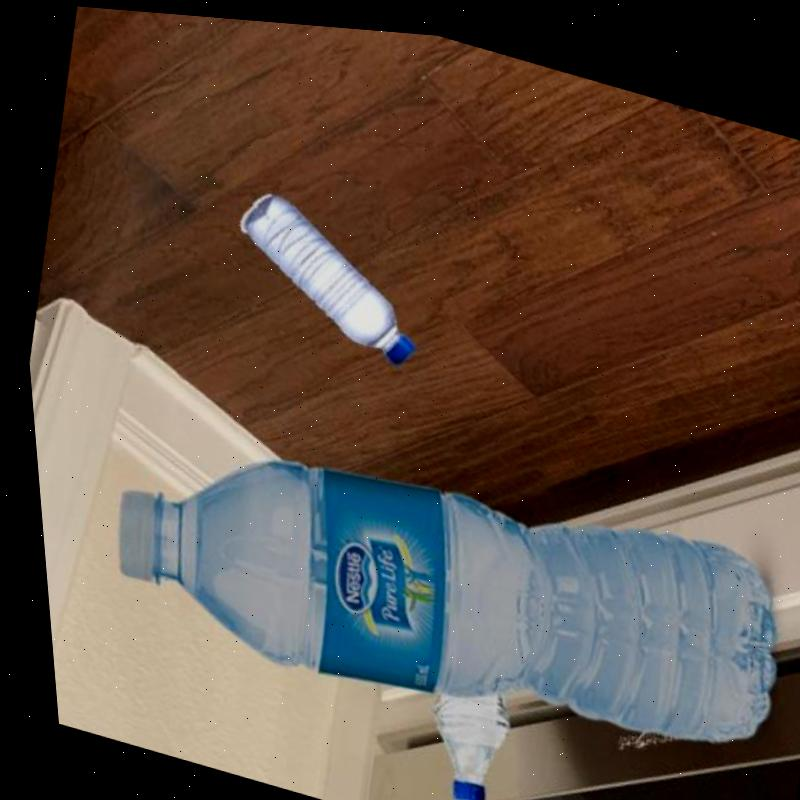botella: (77, 370, 799, 795), (214, 177, 431, 363), (402, 664, 510, 800)
